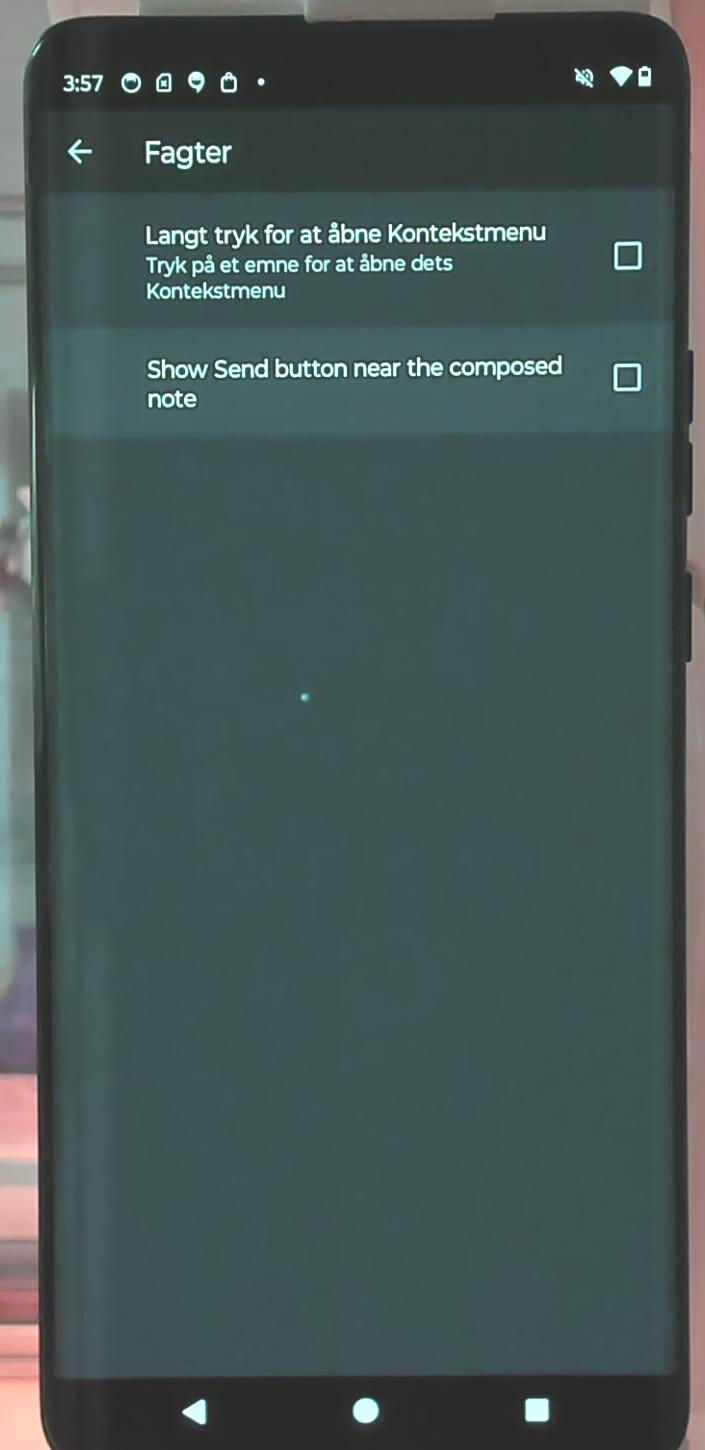Checkbox: (137, 215, 648, 312), (143, 342, 644, 414)
